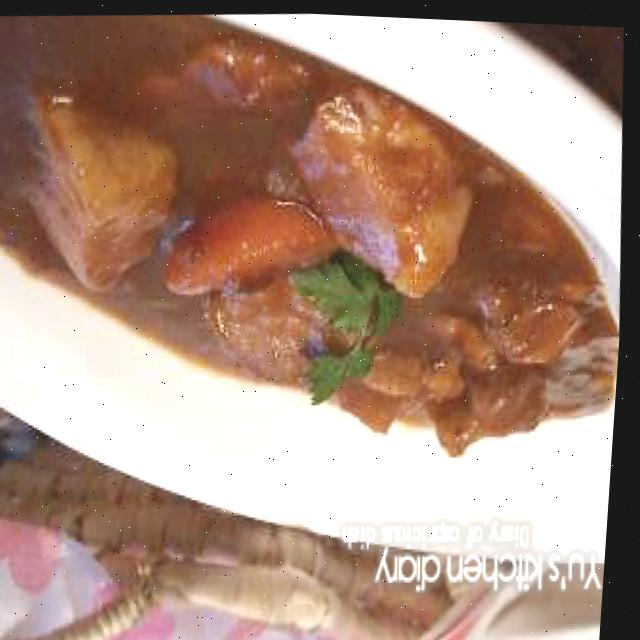汤锅炖物: (0, 0, 640, 539)
